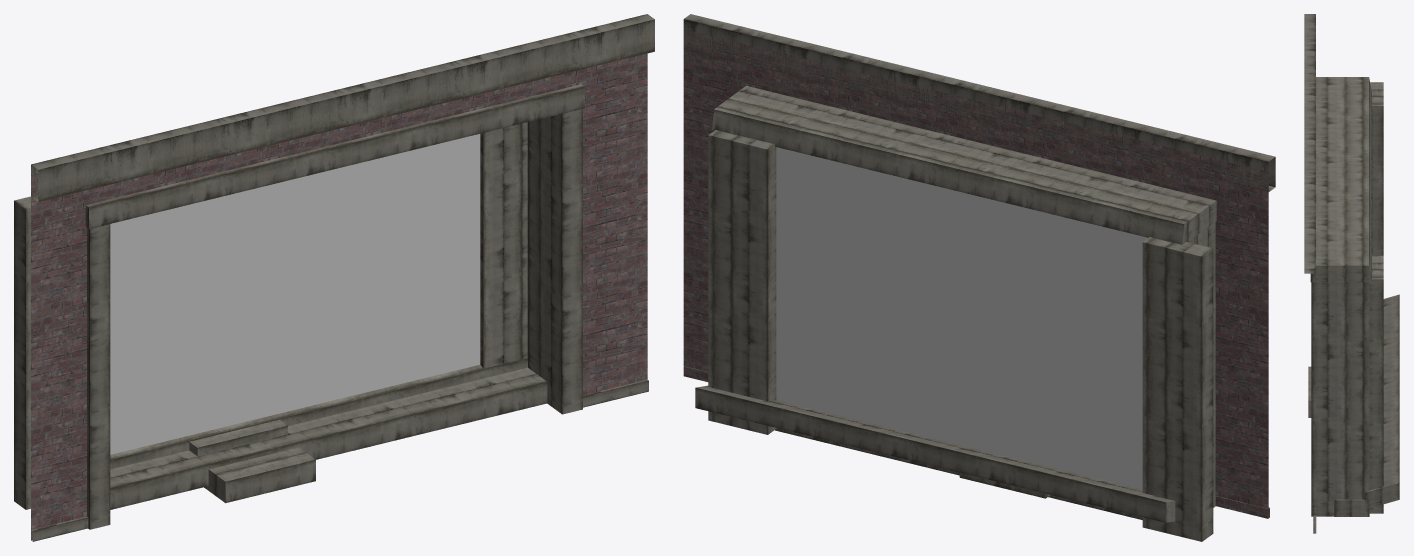
The model's file is Wall_A_Brick_Xxxshop_6x.FBX.
3 views of the same model, side by side, from view 1: azimuth 30°, elevation 25°; view 2: azimuth 150°, elevation 25°; view 3: azimuth 270°, elevation 25° (orthographic). The views are drawn at different scales.
Visible parts, largest first — view 1: Wall_A_Brick_Xxxshop_6x; view 2: Wall_A_Brick_Xxxshop_6x; view 3: Wall_A_Brick_Xxxshop_6x.
Part boxes in pixels (bbox=[...]): Wall_A_Brick_Xxxshop_6x: bbox=[14, 14, 654, 541]; Wall_A_Brick_Xxxshop_6x: bbox=[683, 14, 1275, 541]; Wall_A_Brick_Xxxshop_6x: bbox=[1304, 14, 1399, 533].
Size of the model in its own units: 600 by 355 by 103.
